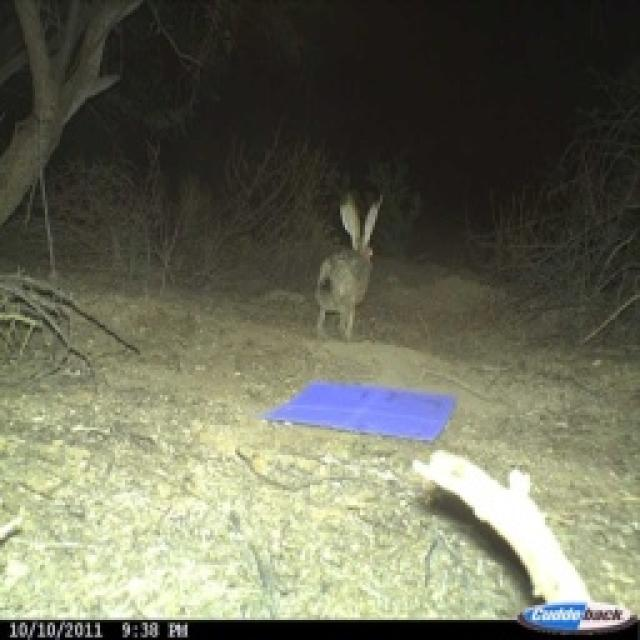not_pig: (307, 188, 385, 340)
